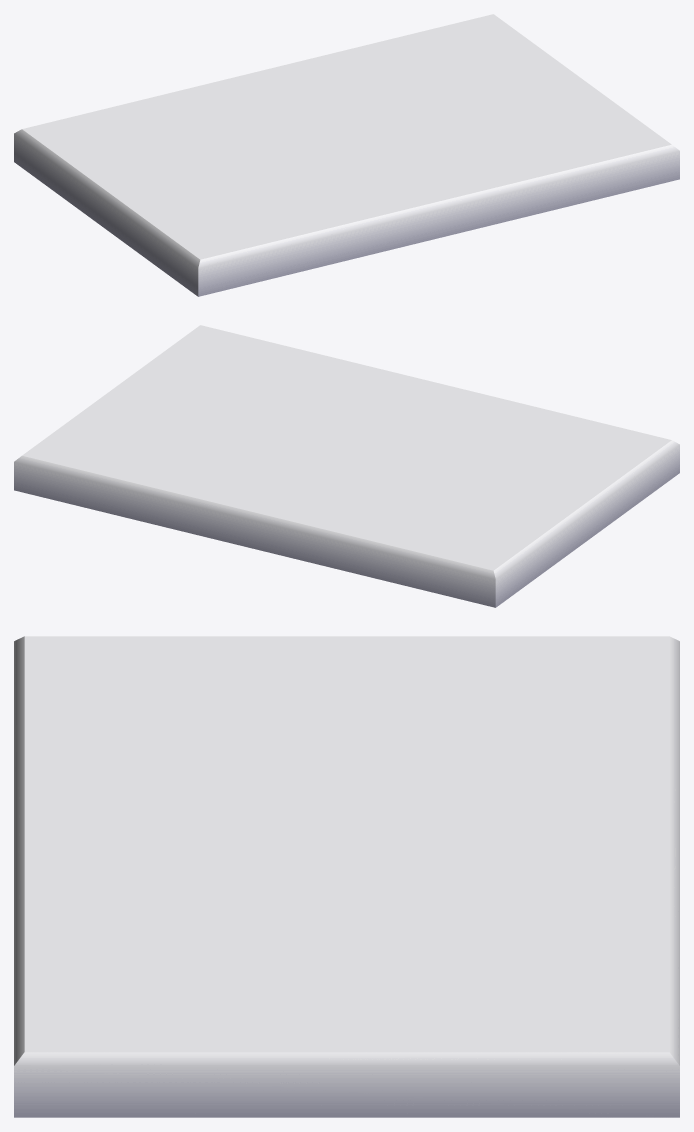
Rendered from brick-kit--none-hq-plate-4x6.glb.
The picture shows the model from 3 angles, top to bottom: view 1: azimuth 30°, elevation 25°; view 2: azimuth 150°, elevation 25°; view 3: azimuth 270°, elevation 25°; orthographic projection. The views are drawn at different scales.
Visible parts, largest first — view 1: none-hq-plate-4x6; view 2: none-hq-plate-4x6; view 3: none-hq-plate-4x6.
Part boxes in pixels (x1,y1,x2,y2): none-hq-plate-4x6: [14, 14, 679, 296]; none-hq-plate-4x6: [14, 325, 679, 607]; none-hq-plate-4x6: [14, 636, 679, 1117].
Size of the model in its own units: 0.477 by 0.032 by 0.316.
Materials: 1 (1 with a texture image).
